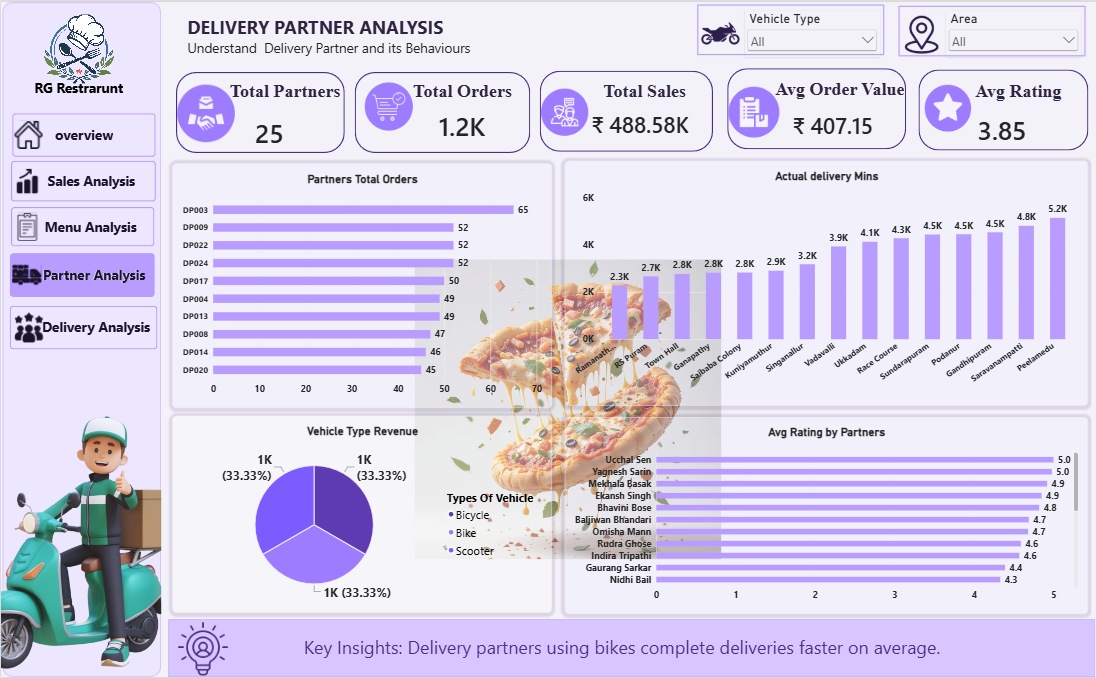

This screenshot's page, from the dashboard's own definition file:
{"tool":"powerbi","page":{"name":"delivery partner analysis","canvas":[1951,1200],"ordinal":4},"visuals":[{"type":"image","box":[735,457.5,545,532.5],"z":1000},{"type":"shape","box":[2.5,0,282.5,1200],"z":2000},{"type":"shape","box":[310,124,300,144],"z":3000},{"type":"textbox","box":[401.9,140.3,205.5,40],"z":4000},{"type":"image","box":[312.5,145,102.5,107.5],"z":5000},{"type":"cardVisual","fields":{"Data":["Count(cleaned_partners.partner_name)"]},"box":[435,200,194.6,65.5],"z":6000},{"type":"textbox","box":[331,21.8,651,125.5],"z":7000},{"type":"shape","box":[15,87.5,245,130],"z":8000},{"type":"image","box":[40,22.5,197.5,122.5],"z":9000},{"type":"shape","box":[628.8,124,312,144],"z":10000},{"type":"textbox","box":[718,140.6,205.5,40],"z":11000},{"type":"image","box":[646.1,142.2,85.4,87.5],"z":12000},{"type":"cardVisual","fields":{"Data":["formulas.total orders"]},"box":[762.5,187.5,194.6,65.5],"z":13000},{"type":"shape","box":[958,122,308,144],"z":14000},{"type":"textbox","box":[1021.2,139.6,243.8,39.6],"z":15000},{"type":"image","box":[960,136,84,120],"z":16000},{"type":"shape","box":[1292,118,318,144],"z":17000},{"type":"textbox","box":[1362.5,135,258.3,41.7],"z":18000},{"type":"image","box":[1294,138,90,116],"z":19000},{"type":"cardVisual","fields":{"Data":["Avg(cleaned_orders.total_amount_inr)"]},"box":[1390,187.5,205,65],"z":20000},{"type":"shape","box":[1630,120,302,144],"z":21000},{"type":"textbox","box":[1695,140,226,38],"z":22000},{"type":"image","box":[1642.5,140,82.5,97.5],"z":23000},{"type":"cardVisual","fields":{"Data":["Avg(item_performance.avg_rating)"]},"box":[1719.7,193.5,194.6,65.5],"z":24000},{"type":"actionButton","title":"overview off","box":[20,197.5,255,77.5],"z":26000},{"type":"actionButton","title":"sales off","box":[17.5,282.5,257.5,72.5],"z":28000},{"type":"actionButton","title":"menu off","box":[17.5,365,255,70],"z":30000},{"type":"actionButton","title":"partner on","box":[15,447.5,257.5,77.5],"z":31000},{"type":"actionButton","title":"partner off","box":[17.5,447.5,255,77.5],"z":32000},{"type":"actionButton","title":"delivery Analysis off","box":[15,539,262.5,77.5],"z":33000},{"type":"shape","box":[297.5,1097.5,1647.5,102.5],"z":34000},{"type":"textbox","box":[337.5,1125,1532.5,75],"z":35000},{"type":"image","box":[305,1102.5,110,95],"z":36000},{"type":"clusteredBarChart","title":"Partners Total Orders","fields":{"Y":["Sum(partner_performance.total_orders)"],"Category":["partner_performance.delivery_partner_id"]},"box":[305,287.5,675,435],"z":37000},{"type":"columnChart","title":"Actual delivery Mins","fields":{"Category":["cleaned_customers.area"],"Y":["Sum(cleaned_orders.actual_delivery_mins)"]},"box":[1002.5,282.5,930,435],"z":38000},{"type":"pieChart","title":"Vehicle Type Revenue","fields":{"Y":["formulas.total orders"],"Category":["cleaned_partners.vehicle_type"]},"box":[305,735,675,350],"z":39000},{"type":"barChart","title":"Avg Rating by Partners","fields":{"Category":["cleaned_partners.partner_name"],"Y":["Sum(cleaned_partners.avg_rating)"]},"box":[1002.5,737.5,930,350],"z":40000},{"type":"shape","box":[1595.9,6.2,332.5,90],"z":41000},{"type":"slicer","fields":{"Values":["cleaned_customers.area"]},"box":[1680.9,16.2,240,82.5],"z":42000},{"type":"image","box":[1595.9,23.8,82.5,67.5],"z":43000},{"type":"cardVisual","fields":{"Data":["Sum(cleaned_orders.total_amount_inr)"]},"box":[1032.5,185,220,65],"z":44000},{"type":"image","box":[0,700,285,500],"z":47000},{"type":"shape","box":[1252.3,5.8,332.5,90],"z":47001},{"type":"slicer","fields":{"Values":["cleaned_partners.vehicle_type"]},"box":[1337.3,15.8,240,82.5],"z":47002},{"type":"image","box":[1252.3,23.3,82.5,67.5],"z":47003}]}

Visuals, with their boxes on the page's 1951x1200 design canvas (x1, y1, x2, y2). These are canvas units, not pixel positions in the 1096x678 screenshot, which may show the page scaled, cropped or inside an application window:
image: bbox(735, 458, 1280, 990)
shape: bbox(2, 0, 285, 1200)
shape: bbox(310, 124, 610, 268)
textbox: bbox(402, 140, 607, 180)
image: bbox(312, 145, 415, 252)
cardVisual - Count(cleaned_partners.partner_name): bbox(435, 200, 630, 266)
textbox: bbox(331, 22, 982, 147)
shape: bbox(15, 88, 260, 218)
image: bbox(40, 22, 238, 145)
shape: bbox(629, 124, 941, 268)
textbox: bbox(718, 141, 924, 181)
image: bbox(646, 142, 732, 230)
cardVisual - formulas.total orders: bbox(762, 188, 957, 253)
shape: bbox(958, 122, 1266, 266)
textbox: bbox(1021, 140, 1265, 179)
image: bbox(960, 136, 1044, 256)
shape: bbox(1292, 118, 1610, 262)
textbox: bbox(1362, 135, 1621, 177)
image: bbox(1294, 138, 1384, 254)
cardVisual - Avg(cleaned_orders.total_amount_inr): bbox(1390, 188, 1595, 252)
shape: bbox(1630, 120, 1932, 264)
textbox: bbox(1695, 140, 1921, 178)
image: bbox(1642, 140, 1725, 238)
cardVisual - Avg(item_performance.avg_rating): bbox(1720, 194, 1914, 259)
"overview off" actionButton: bbox(20, 198, 275, 275)
"sales off" actionButton: bbox(18, 282, 275, 355)
"menu off" actionButton: bbox(18, 365, 272, 435)
"partner on" actionButton: bbox(15, 448, 272, 525)
"partner off" actionButton: bbox(18, 448, 272, 525)
"delivery Analysis off" actionButton: bbox(15, 539, 278, 616)
shape: bbox(298, 1098, 1945, 1200)
textbox: bbox(338, 1125, 1870, 1200)
image: bbox(305, 1102, 415, 1198)
"Partners Total Orders" clusteredBarChart: bbox(305, 288, 980, 722)
"Actual delivery Mins" columnChart: bbox(1002, 282, 1932, 718)
"Vehicle Type Revenue" pieChart: bbox(305, 735, 980, 1085)
"Avg Rating by Partners" barChart: bbox(1002, 738, 1932, 1088)
shape: bbox(1596, 6, 1928, 96)
slicer - cleaned_customers.area: bbox(1681, 16, 1921, 99)
image: bbox(1596, 24, 1678, 91)
cardVisual - Sum(cleaned_orders.total_amount_inr): bbox(1032, 185, 1252, 250)
image: bbox(0, 700, 285, 1200)
shape: bbox(1252, 6, 1585, 96)
slicer - cleaned_partners.vehicle_type: bbox(1337, 16, 1577, 98)
image: bbox(1252, 23, 1335, 91)
